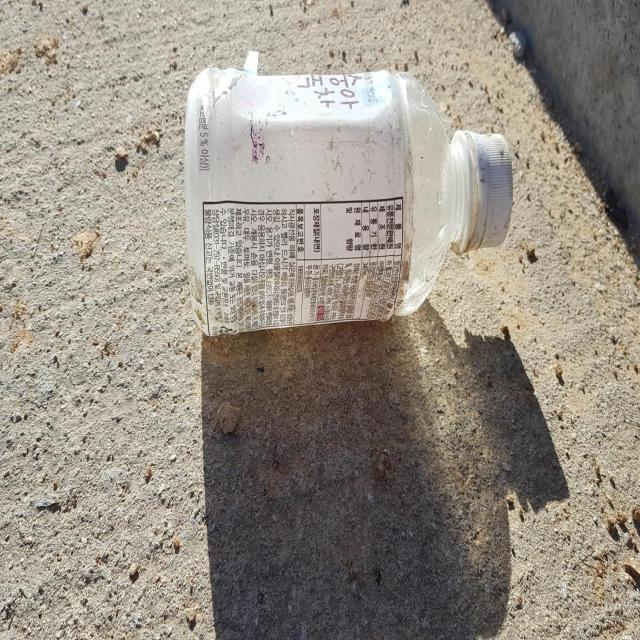plastic: (184, 51, 514, 335)
